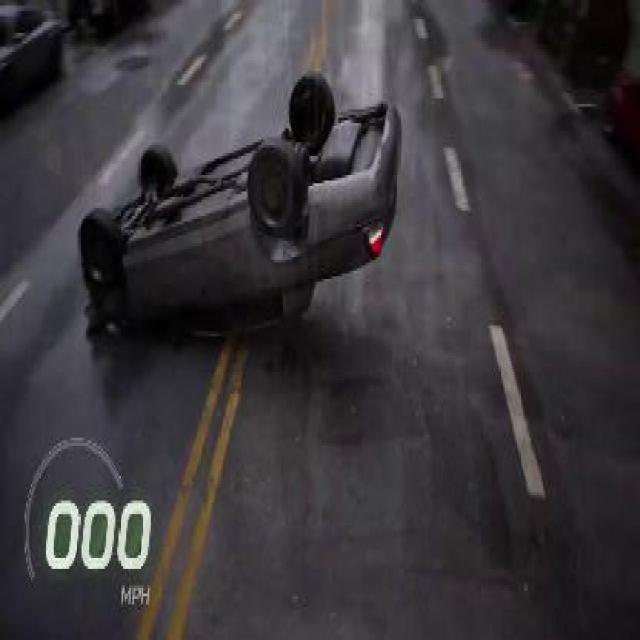accident: (78, 71, 410, 353)
